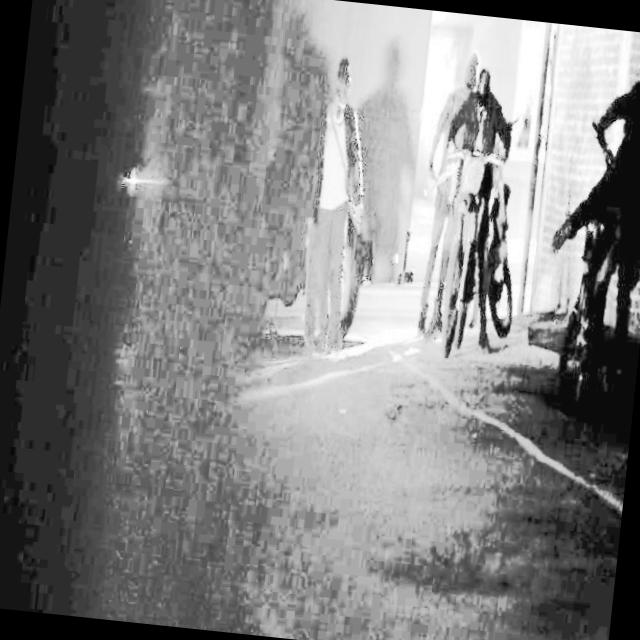Motorcycle: (397, 166, 536, 442), (234, 176, 380, 374), (530, 198, 627, 389)
